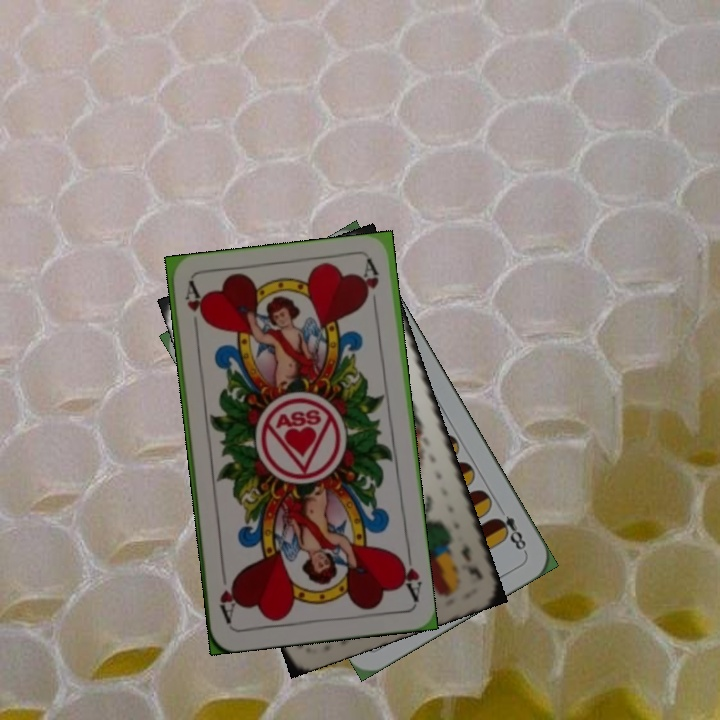E8: (490, 511, 529, 555)
EK: (457, 539, 486, 582)
HA: (393, 546, 424, 605), (180, 279, 207, 338)
